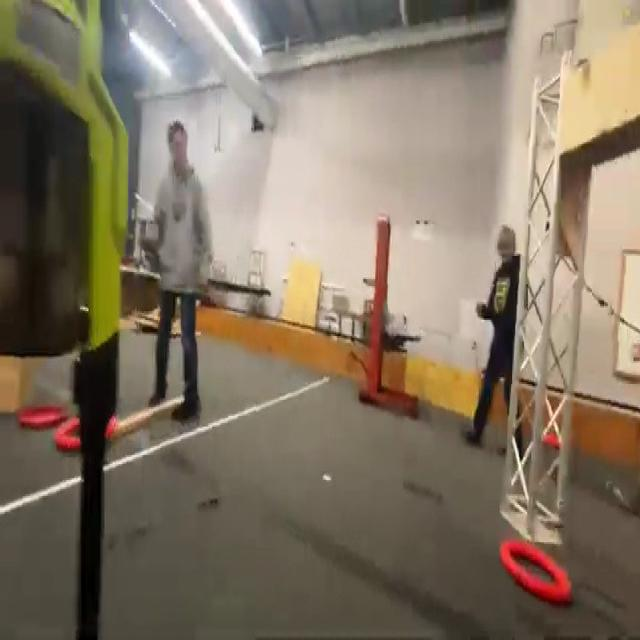note: (498, 534, 574, 610), (52, 415, 116, 455)
